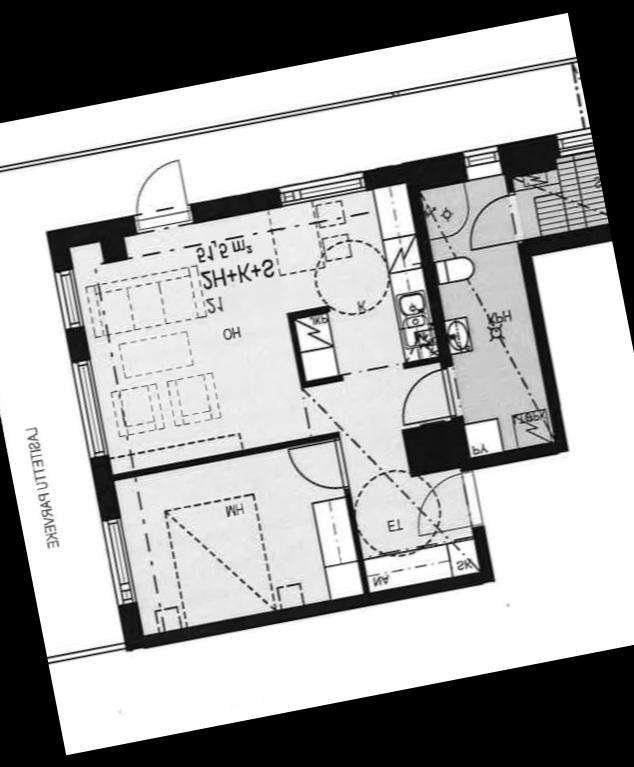door: (123, 156, 196, 236), (406, 468, 483, 543), (457, 182, 526, 256), (386, 361, 461, 428), (279, 434, 350, 501)
window: (63, 350, 114, 465), (94, 512, 140, 612), (272, 166, 370, 209), (47, 262, 85, 338), (455, 138, 505, 184), (548, 121, 595, 160)
